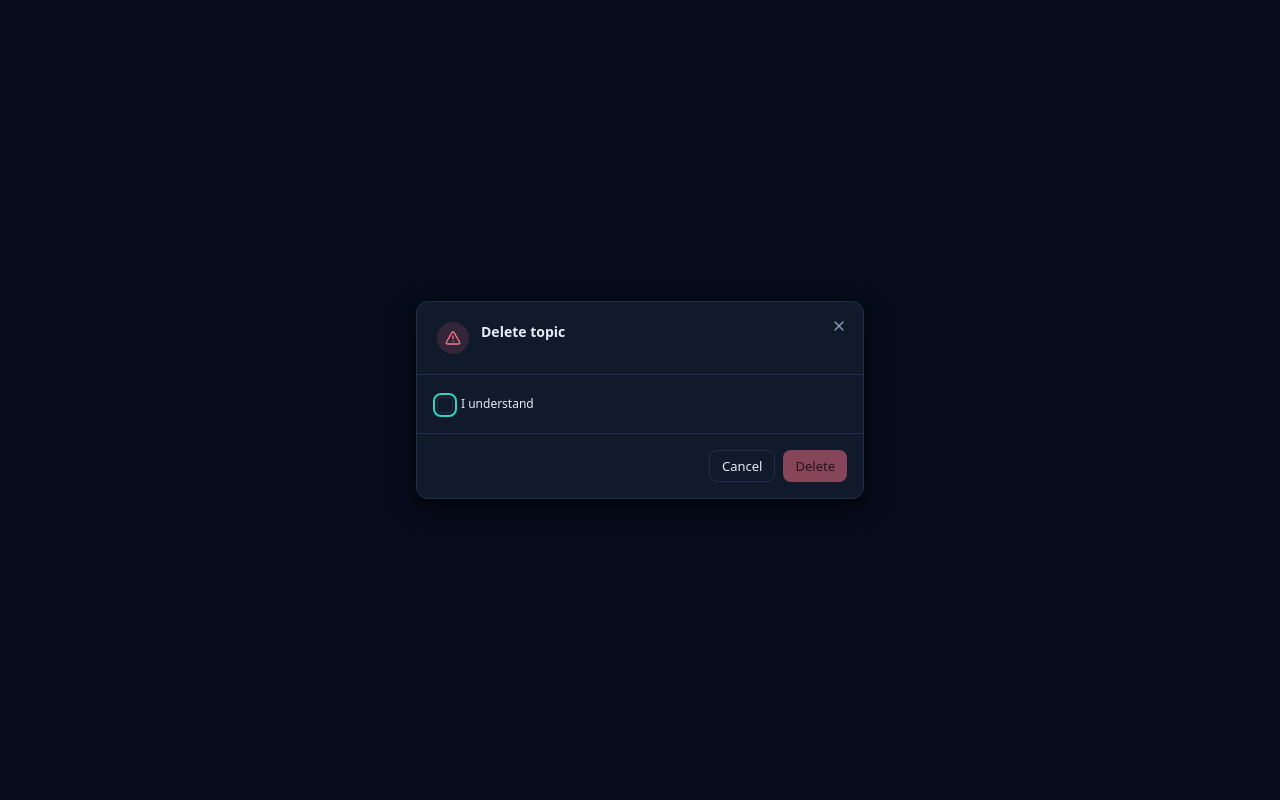
Test case: ConfirmDestructiveDialog › requires the acknowledgement checkbox when acknowledgeLabel is set
Expected: the button "Delete" is disabled, 784,450 -> 847,482
Click the checkbox.
click(445, 405)  # box 437,397 -> 453,413
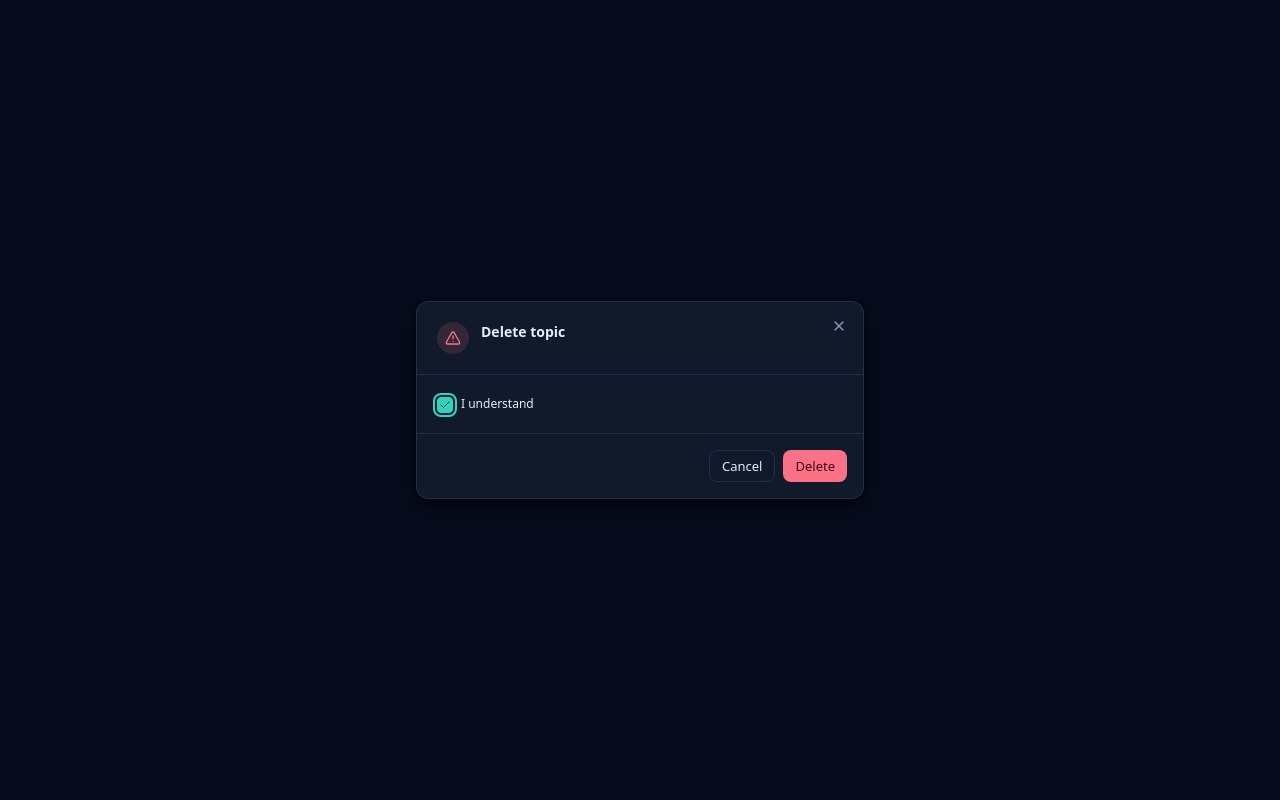
Now the button "Delete" is enabled, box 784,450 -> 847,482
